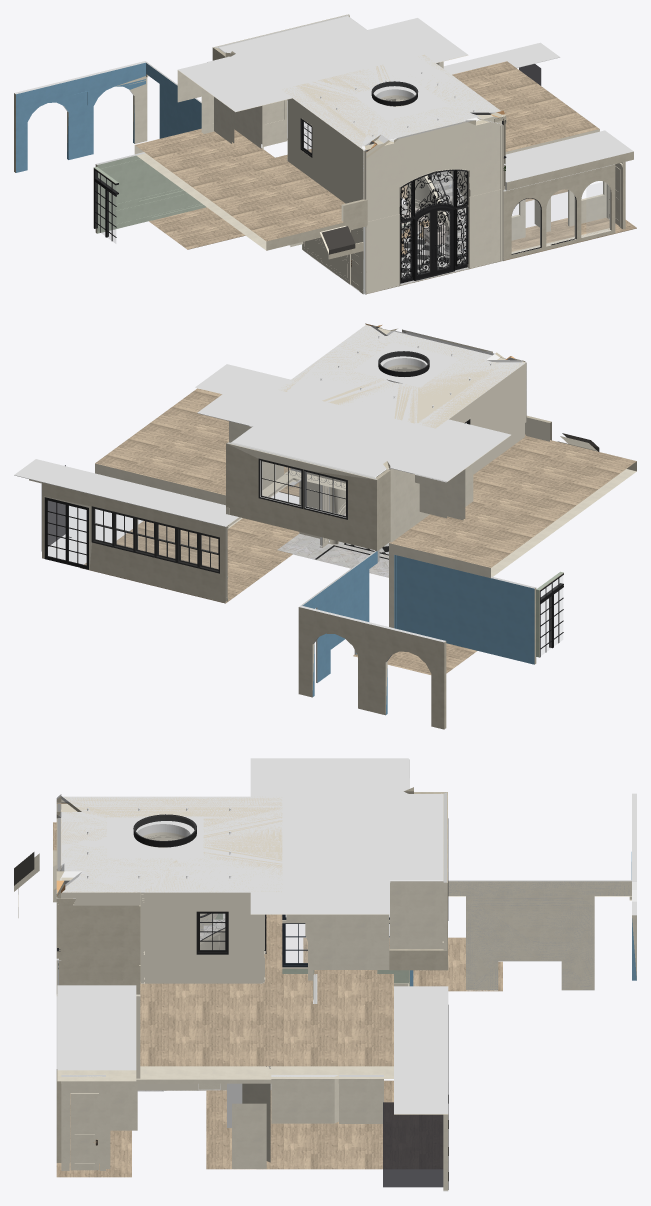
File: entry-64e344daac8d.glb
The picture shows the model from 3 angles, top to bottom: view 1: azimuth 30°, elevation 25°; view 2: azimuth 150°, elevation 25°; view 3: azimuth 270°, elevation 25°; orthographic projection. The views are drawn at different scales.
Parts seen in each view (by area): view 1: entry-look-2575515a05775d9e, entry-look-9d91b47435c6fb33, entry-9d91b47435c6fb33, entry-4edf3a9420c06709, entry-look-969b861f9850351e, entry-9ca48b730e5de4b2, entry-look-b19b106fc304963c, entry-746250f96522f643, entry-look-dbd60ee5c3733ed6, entry-e8793759323e04f0, entry-look-c9e78b9ec1bb39cd, entry-785988ccf932ddd5 (+34 smaller); view 2: entry-look-2575515a05775d9e, entry-look-9d91b47435c6fb33, entry-look-b19b106fc304963c, entry-9d91b47435c6fb33, entry-look-969b861f9850351e, entry-look-245f595ae2832e16, entry-look-3b0077416469e01b, entry-look-bfb9fa537cd11d1d, entry-e8793759323e04f0, entry-look-9a0e9ee9b2a451d7, entry-746250f96522f643, entry-look-3e6709f91b43c3bf (+19 smaller); view 3: entry-look-2575515a05775d9e, entry-look-9d91b47435c6fb33, entry-9d91b47435c6fb33, entry-look-3e6709f91b43c3bf, entry-look-3b0077416469e01b, entry-c51ecd664a3b22a3, entry-e8793759323e04f0, entry-look-dbd60ee5c3733ed6, entry-look-9a0e9ee9b2a451d7, entry-62353aa10fc57f23, entry-look-cbd4bf73d9724a66, entry-look-55ff1dfd7b659ec1 (+24 smaller).
Part boxes in pixels (x1,y1,x2,y2): entry-look-2575515a05775d9e: (134, 61, 599, 250); entry-look-9d91b47435c6fb33: (178, 16, 468, 112); entry-9d91b47435c6fb33: (281, 54, 500, 149); entry-4edf3a9420c06709: (365, 120, 503, 221); entry-look-969b861f9850351e: (14, 61, 147, 172); entry-9ca48b730e5de4b2: (365, 189, 503, 293); entry-look-b19b106fc304963c: (95, 152, 202, 233); entry-746250f96522f643: (287, 98, 361, 203); entry-look-dbd60ee5c3733ed6: (505, 130, 633, 190); entry-e8793759323e04f0: (282, 54, 499, 149); entry-look-c9e78b9ec1bb39cd: (503, 164, 615, 260); entry-785988ccf932ddd5: (366, 118, 503, 220); entry-look-2575515a05775d9e: (95, 388, 636, 578); entry-look-9d91b47435c6fb33: (197, 371, 510, 481); entry-look-b19b106fc304963c: (397, 555, 536, 664); entry-9d91b47435c6fb33: (277, 325, 525, 427); entry-look-969b861f9850351e: (298, 605, 446, 729); entry-look-245f595ae2832e16: (226, 442, 377, 551); entry-look-3b0077416469e01b: (80, 518, 476, 674); entry-look-bfb9fa537cd11d1d: (42, 482, 227, 602); entry-e8793759323e04f0: (281, 325, 525, 428); entry-look-9a0e9ee9b2a451d7: (14, 459, 238, 526); entry-746250f96522f643: (449, 364, 524, 474); entry-look-3e6709f91b43c3bf: (302, 551, 377, 682); entry-look-2575515a05775d9e: (53, 822, 393, 1078); entry-look-9d91b47435c6fb33: (250, 758, 442, 914); entry-9d91b47435c6fb33: (61, 796, 282, 892); entry-look-3e6709f91b43c3bf: (448, 880, 631, 989); entry-look-3b0077416469e01b: (206, 937, 502, 1169); entry-c51ecd664a3b22a3: (145, 892, 264, 983); entry-e8793759323e04f0: (58, 794, 282, 891); entry-look-dbd60ee5c3733ed6: (57, 985, 136, 1081); entry-look-9a0e9ee9b2a451d7: (394, 986, 448, 1114); entry-62353aa10fc57f23: (71, 892, 140, 996); entry-look-cbd4bf73d9724a66: (383, 1102, 443, 1187); entry-look-55ff1dfd7b659ec1: (448, 880, 631, 990).
Size of the model in its own units: 21.07 by 7.02 by 18.
Materials: 67 (13 with a texture image).
